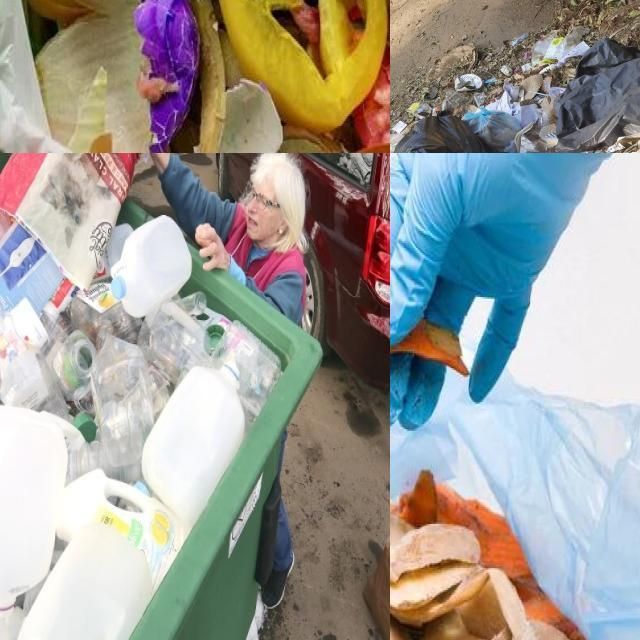Disposable: (520, 124, 559, 153), (520, 74, 543, 101), (455, 74, 483, 91)
Garbage: (0, 153, 287, 640), (31, 0, 390, 153), (390, 0, 640, 153)
Plastic: (134, 0, 200, 153)
Plastic_Bag: (554, 39, 640, 153), (394, 115, 489, 153), (462, 109, 520, 153)
Plastic_Container: (143, 369, 244, 531), (17, 524, 152, 640), (60, 470, 183, 588), (111, 217, 193, 317), (211, 320, 281, 416), (139, 300, 210, 384), (11, 298, 49, 349)
Plastic_bottle: (91, 334, 154, 481), (0, 306, 70, 420), (70, 282, 141, 346), (67, 441, 143, 483), (53, 330, 96, 396), (0, 607, 25, 640)
Plastic_wraper: (531, 31, 557, 64), (543, 37, 564, 59)
contaminated_waste: (134, 0, 198, 153)
